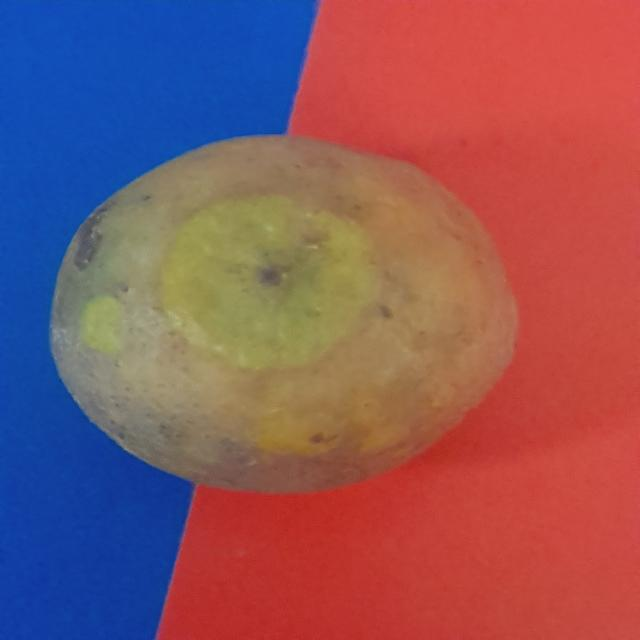thrips: (66, 144, 527, 485)
